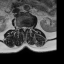CCS_normal: (23, 25, 25, 33)
LFS_normal: (27, 24, 29, 30)
LLS_normal: (25, 24, 27, 31)
RFS_stenosis: (19, 24, 21, 30)
RLS_normal: (21, 25, 23, 31)
